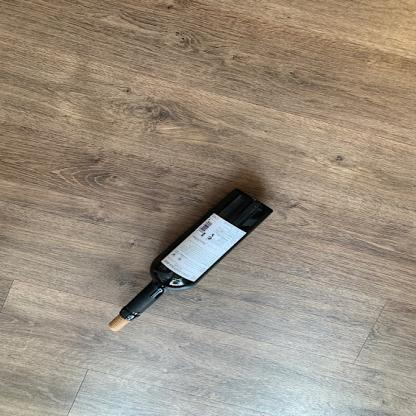trash: (115, 190, 280, 322)
